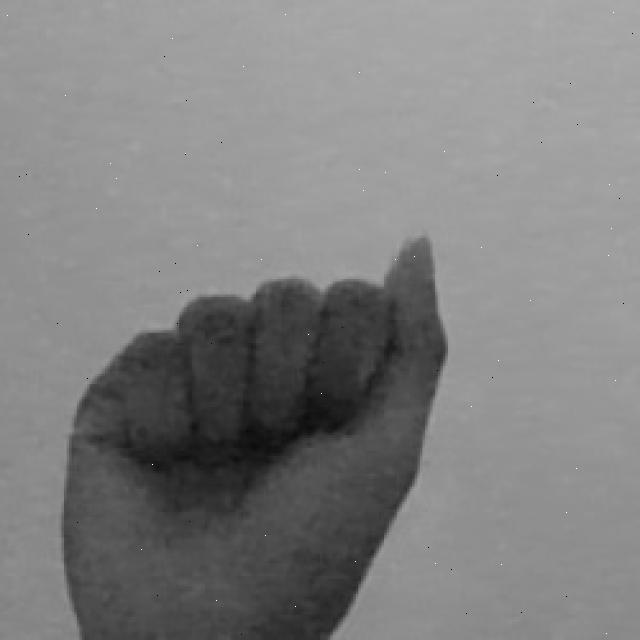A: (57, 229, 453, 640)
